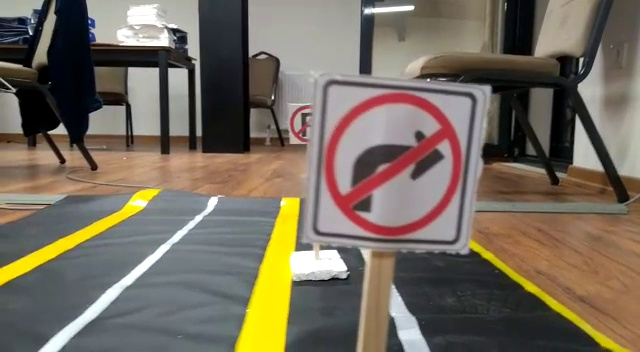park_yapilmaz: (282, 102, 317, 144)
saga_donulmez: (323, 90, 471, 239)
